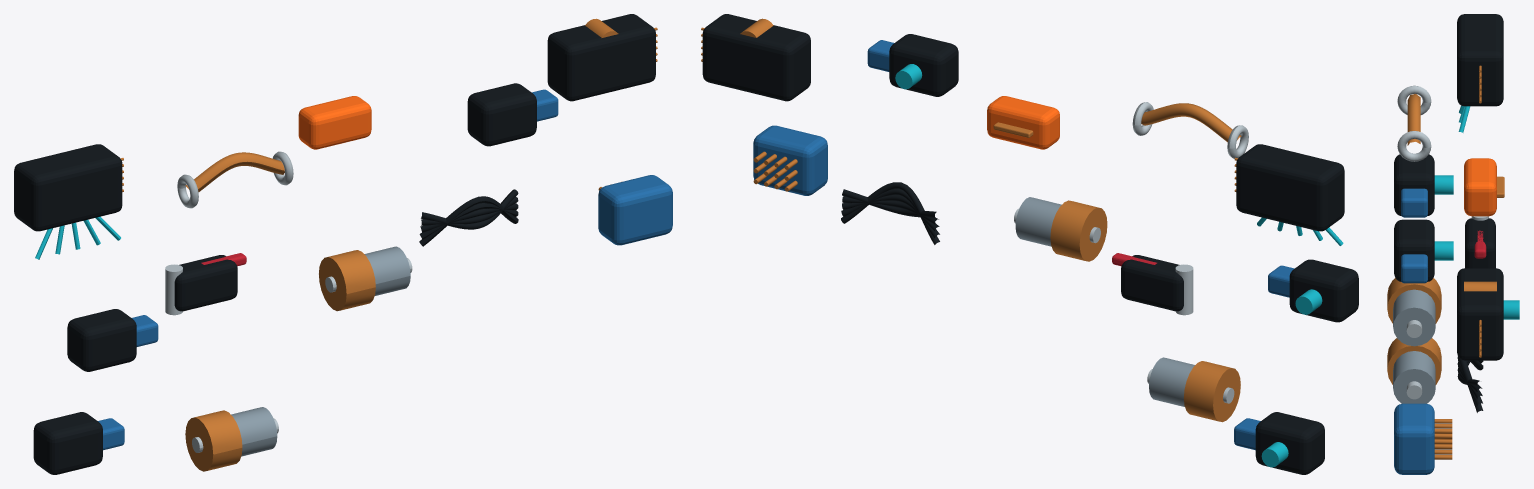
Rendered from generic_functional_overview.glb.
The picture shows the model from 3 angles, left to right: view 1: azimuth 30°, elevation 25°; view 2: azimuth 150°, elevation 25°; view 3: azimuth 270°, elevation 25°; orthographic projection. The views are drawn at different scales.
Parts seen in each view (by area): view 1: system_mesh__sensor_domain__housing, system_mesh__main_relay__housing, system_mesh__transmission_bulkhead__shell, system_mesh__battery_ibs__sealed_body, system_mesh__prndl_sensor__sealed_body, system_mesh__evap_pressure_sensor__sealed_body, system_mesh__main_fusible_link__insulated_body, system_mesh__neutral_safety_switch__body, system_mesh__transmission_solenoids__coil, system_mesh__evap_valves__coil, system_mesh__transmission_solenoids__body, system_mesh__evap_valves__body (+2 smaller); view 2: system_mesh__sensor_domain__housing, system_mesh__main_relay__housing, system_mesh__transmission_bulkhead__shell, system_mesh__prndl_sensor__sealed_body, system_mesh__battery_ibs__sealed_body, system_mesh__evap_pressure_sensor__sealed_body, system_mesh__main_fusible_link__insulated_body, system_mesh__neutral_safety_switch__body, system_mesh__transmission_solenoids__coil, system_mesh__evap_valves__coil, system_mesh__transmission_solenoids__body, system_mesh__evap_valves__body (+2 smaller); view 3: system_mesh__sensor_domain__housing, system_mesh__main_relay__housing, system_mesh__transmission_bulkhead__shell, system_mesh__main_fusible_link__insulated_body, system_mesh__transmission_solenoids__body, system_mesh__evap_valves__body, system_mesh__battery_ibs__sealed_body, system_mesh__prndl_sensor__sealed_body, system_mesh__neutral_safety_switch__body, system_mesh__evap_valves__coil, system_mesh__transmission_solenoids__coil, system_mesh__battery_ibs__connector (+13 smaller).
Boxes of the visible parts, left/top/right/bottom form: system_mesh__sensor_domain__housing: left=14, top=144, right=122, bottom=231; system_mesh__main_relay__housing: left=547, top=14, right=655, bottom=101; system_mesh__transmission_bulkhead__shell: left=598, top=175, right=672, bottom=245; system_mesh__battery_ibs__sealed_body: left=467, top=83, right=536, bottom=146; system_mesh__prndl_sensor__sealed_body: left=67, top=309, right=136, bottom=371; system_mesh__evap_pressure_sensor__sealed_body: left=33, top=412, right=102, bottom=474; system_mesh__main_fusible_link__insulated_body: left=298, top=96, right=371, bottom=149; system_mesh__neutral_safety_switch__body: left=174, top=255, right=237, bottom=311; system_mesh__transmission_solenoids__coil: left=319, top=250, right=375, bottom=311; system_mesh__evap_valves__coil: left=185, top=410, right=242, bottom=471; system_mesh__transmission_solenoids__body: left=364, top=246, right=410, bottom=295; system_mesh__evap_valves__body: left=231, top=407, right=277, bottom=456; system_mesh__sensor_domain__housing: left=1236, top=144, right=1344, bottom=231; system_mesh__main_relay__housing: left=702, top=14, right=810, bottom=101; system_mesh__transmission_bulkhead__shell: left=753, top=125, right=827, bottom=195; system_mesh__prndl_sensor__sealed_body: left=1289, top=259, right=1358, bottom=322; system_mesh__battery_ibs__sealed_body: left=889, top=34, right=958, bottom=96; system_mesh__evap_pressure_sensor__sealed_body: left=1255, top=412, right=1324, bottom=474; system_mesh__main_fusible_link__insulated_body: left=987, top=96, right=1059, bottom=149; system_mesh__neutral_safety_switch__body: left=1121, top=255, right=1183, bottom=311; system_mesh__transmission_solenoids__coil: left=1050, top=200, right=1107, bottom=261; system_mesh__evap_valves__coil: left=1183, top=361, right=1240, bottom=422; system_mesh__transmission_solenoids__body: left=1015, top=197, right=1061, bottom=246; system_mesh__evap_valves__body: left=1149, top=357, right=1194, bottom=406; system_mesh__sensor_domain__housing: left=1457, top=14, right=1503, bottom=106; system_mesh__main_relay__housing: left=1457, top=268, right=1503, bottom=360; system_mesh__transmission_bulkhead__shell: left=1394, top=403, right=1434, bottom=474; system_mesh__main_fusible_link__insulated_body: left=1464, top=158, right=1496, bottom=216; system_mesh__transmission_solenoids__body: left=1393, top=289, right=1435, bottom=346; system_mesh__evap_valves__body: left=1393, top=351, right=1435, bottom=403; system_mesh__battery_ibs__sealed_body: left=1394, top=219, right=1434, bottom=281; system_mesh__prndl_sensor__sealed_body: left=1394, top=154, right=1434, bottom=215; system_mesh__neutral_safety_switch__body: left=1465, top=218, right=1495, bottom=268; system_mesh__evap_valves__coil: left=1387, top=338, right=1441, bottom=384; system_mesh__transmission_solenoids__coil: left=1387, top=278, right=1441, bottom=323; system_mesh__battery_ibs__connector: left=1401, top=254, right=1427, bottom=283.
Bounding box in the file's own units: 7.36 × 3.48 × 1.37.
